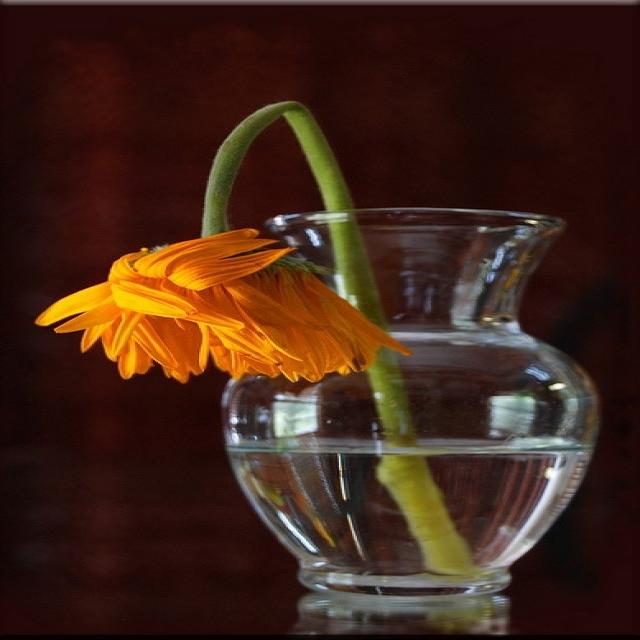Glass: (214, 196, 600, 640)
